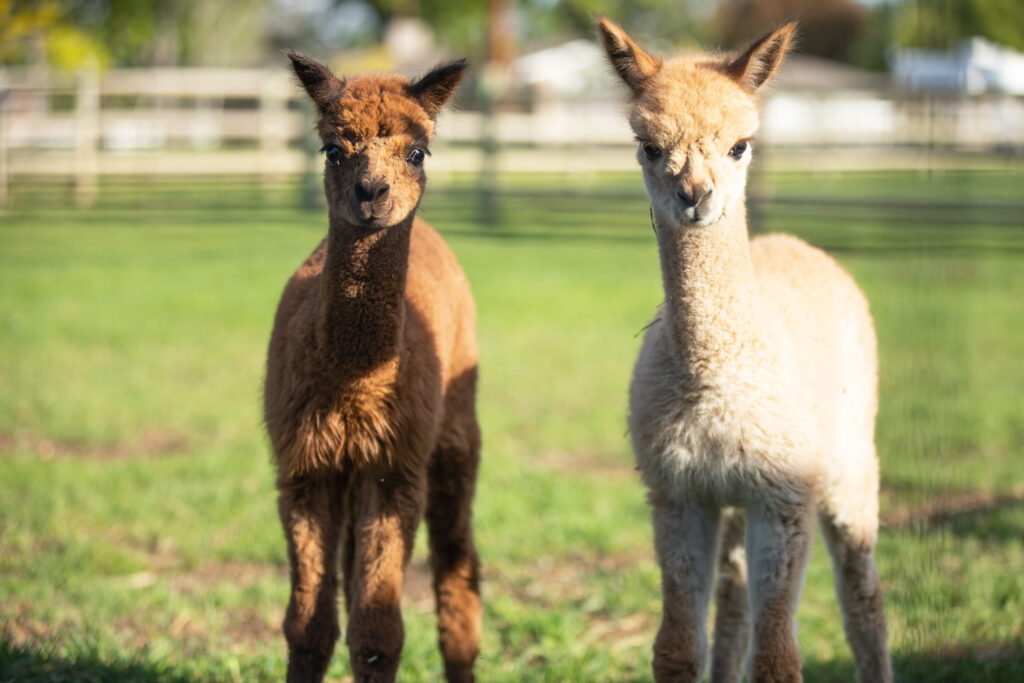eye: (631, 138, 682, 171), (318, 140, 356, 173), (403, 141, 440, 171), (727, 134, 757, 170)
mouth: (349, 201, 406, 229), (673, 204, 718, 232)
